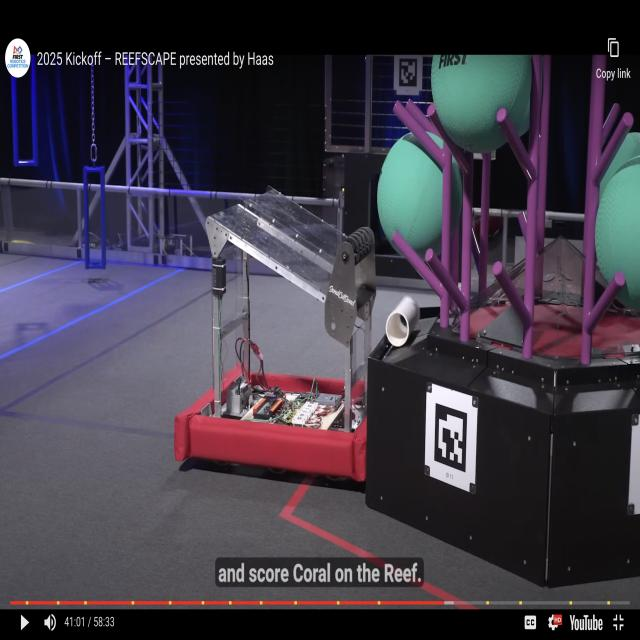algae: (372, 134, 467, 267), (427, 54, 547, 157), (588, 160, 640, 312), (597, 126, 640, 199)
coral: (382, 289, 422, 352)
